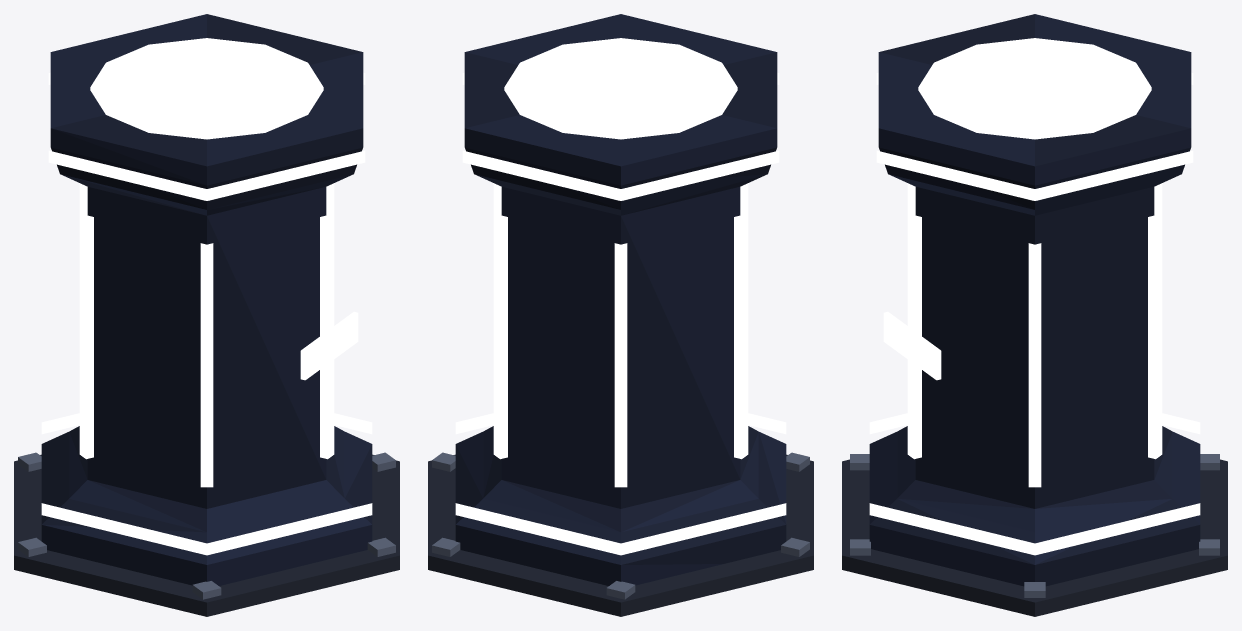
File: kit-tokyo-pedestal.glb
3 views of the same model, side by side, from view 1: azimuth 30°, elevation 25°; view 2: azimuth 150°, elevation 25°; view 3: azimuth 270°, elevation 25° (orthographic).
Parts seen in each view (by area): view 1: kit-tokyo-pedestal; view 2: kit-tokyo-pedestal; view 3: kit-tokyo-pedestal.
Boxes of the visible parts, x1=… form: kit-tokyo-pedestal: x1=14, y1=14, x2=399, y2=616; kit-tokyo-pedestal: x1=428, y1=14, x2=813, y2=616; kit-tokyo-pedestal: x1=842, y1=14, x2=1227, y2=616.
Bounding box in the file's own units: 0.84 × 0.906 × 0.7275.
